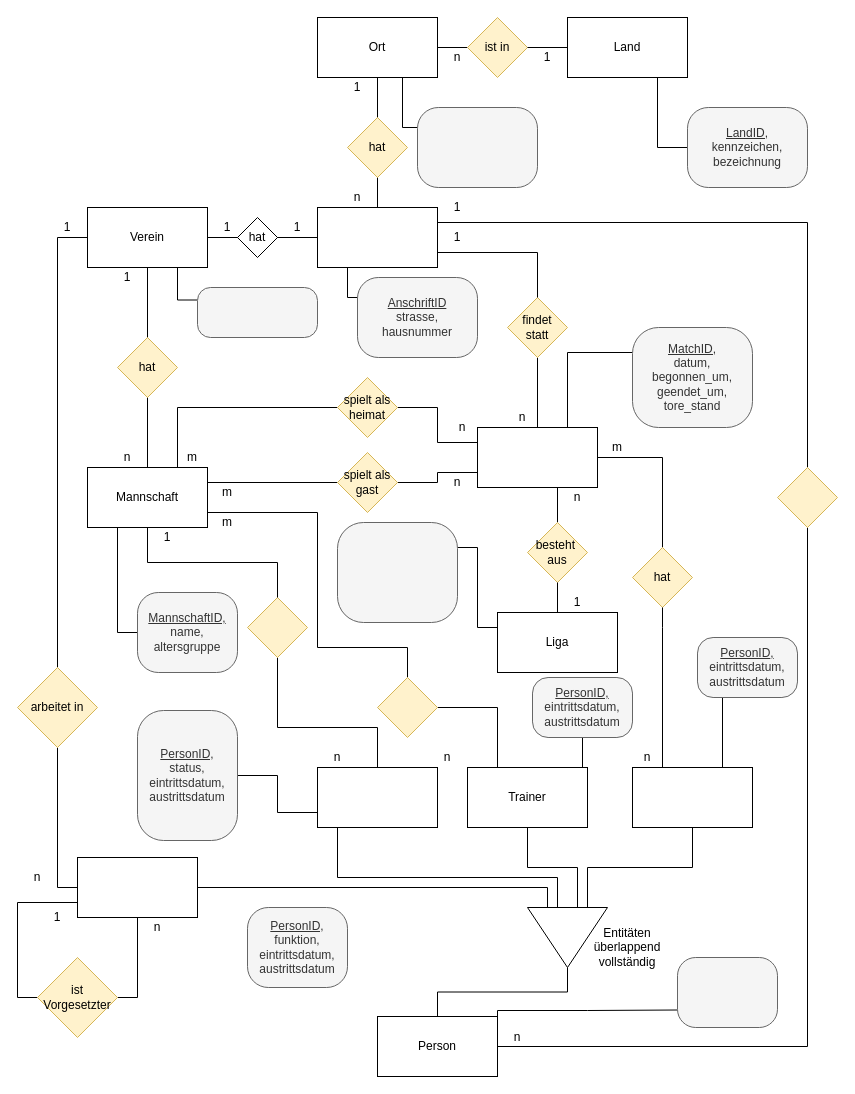
The diagram is 855 pixels wide and 1094 high, and some of its shapes have lost their labels. The centre of each missing label's shape, as x and y in pixels:
Anschrift: [377,237]
is a: [567,937]
ligaID, datum_begonnen, datum_geendet, name, altersgruppe, geschlechts_gruppe: [397,572]
Match: [537,457]
Mitarbeiter: [137,887]
PersonID , vname, nname, geburtsdatum, geschlecht: [727,992]
PLZ, bezeichnung,: [477,147]
Schiedsrichter: [692,797]
Spieler: [377,797]
spielt in: [277,627]
trainiert: [407,707]
VereinID, name: [257,312]
wohnt: [807,497]
